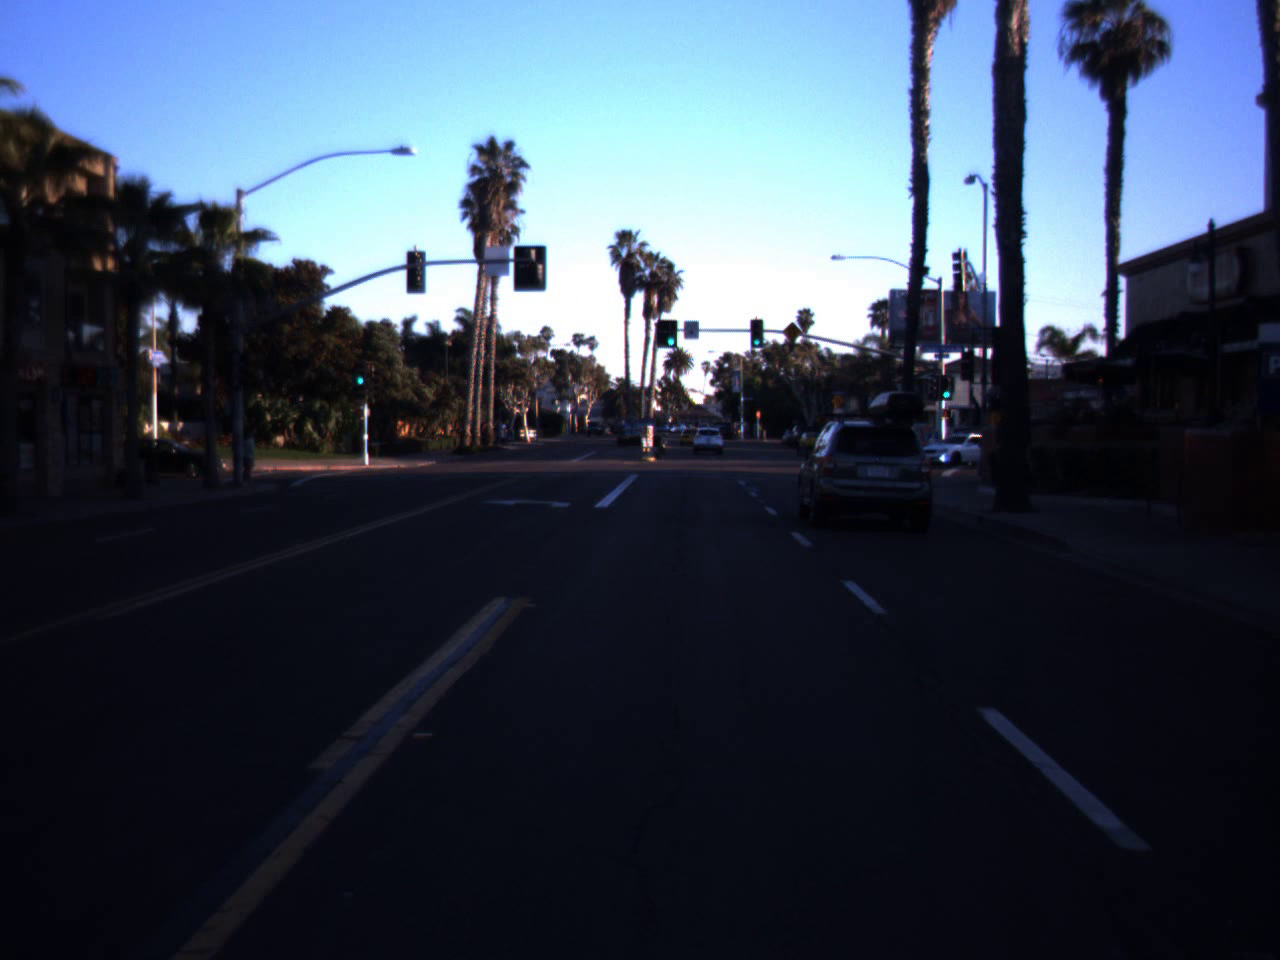go: (662, 318, 680, 348), (353, 357, 368, 387), (940, 371, 952, 401), (751, 322, 763, 347)
